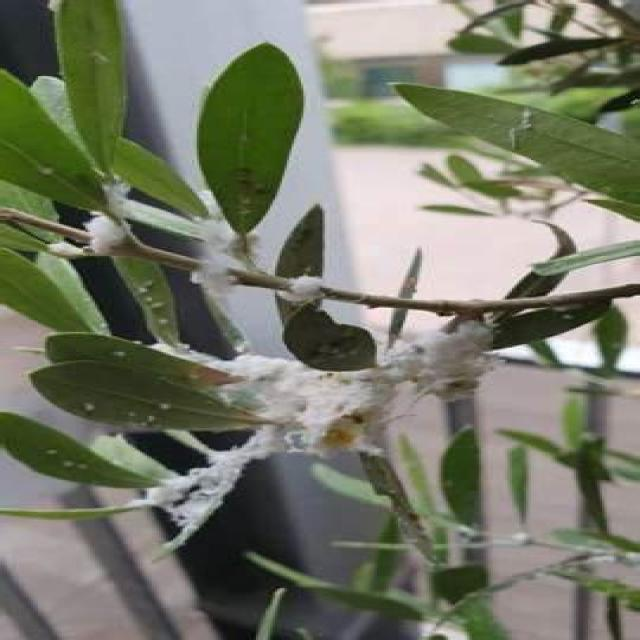Psyllid: (123, 318, 490, 554), (54, 182, 140, 258), (190, 254, 256, 298), (275, 279, 337, 304)
